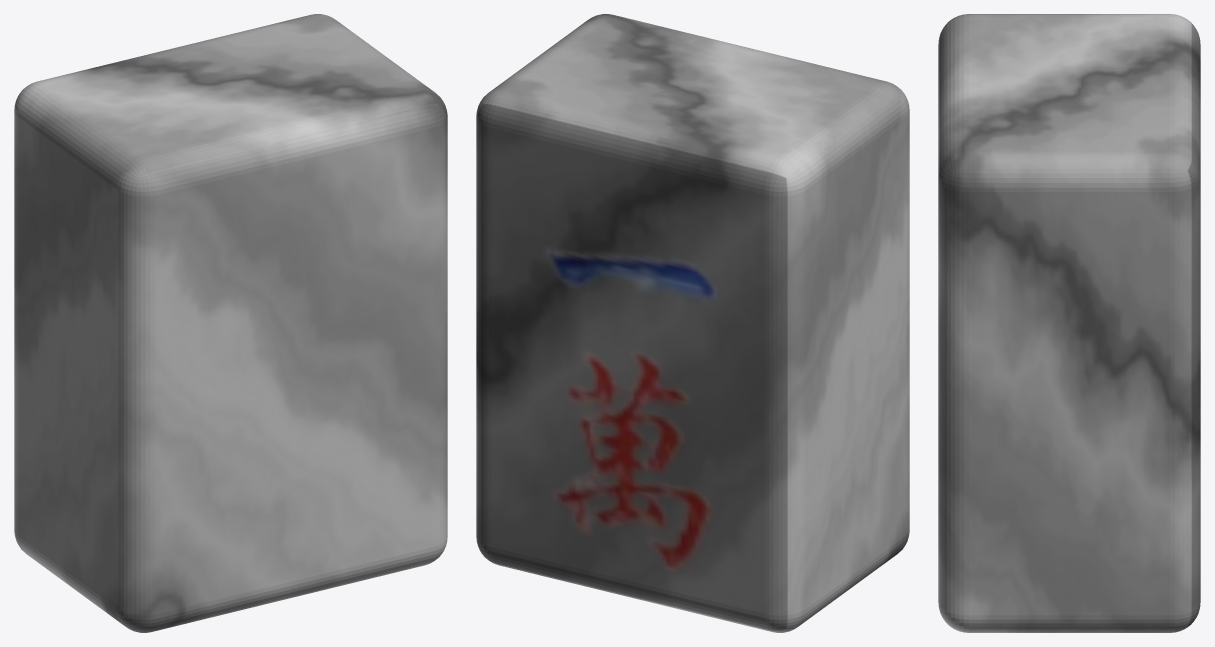
The model's file is wan1.fbx.
The picture shows the model from 3 angles, left to right: view 1: azimuth 30°, elevation 25°; view 2: azimuth 150°, elevation 25°; view 3: azimuth 270°, elevation 25°; orthographic projection.
Visible parts, largest first — view 1: wan1; view 2: wan1; view 3: wan1.
Part boxes in pixels (x1,y1,x2,y2): wan1: [14, 14, 447, 632]; wan1: [476, 14, 909, 632]; wan1: [938, 14, 1200, 632].
Size of the model in its own units: 100 by 139 by 69.
Materials: 1 (1 with a texture image).
